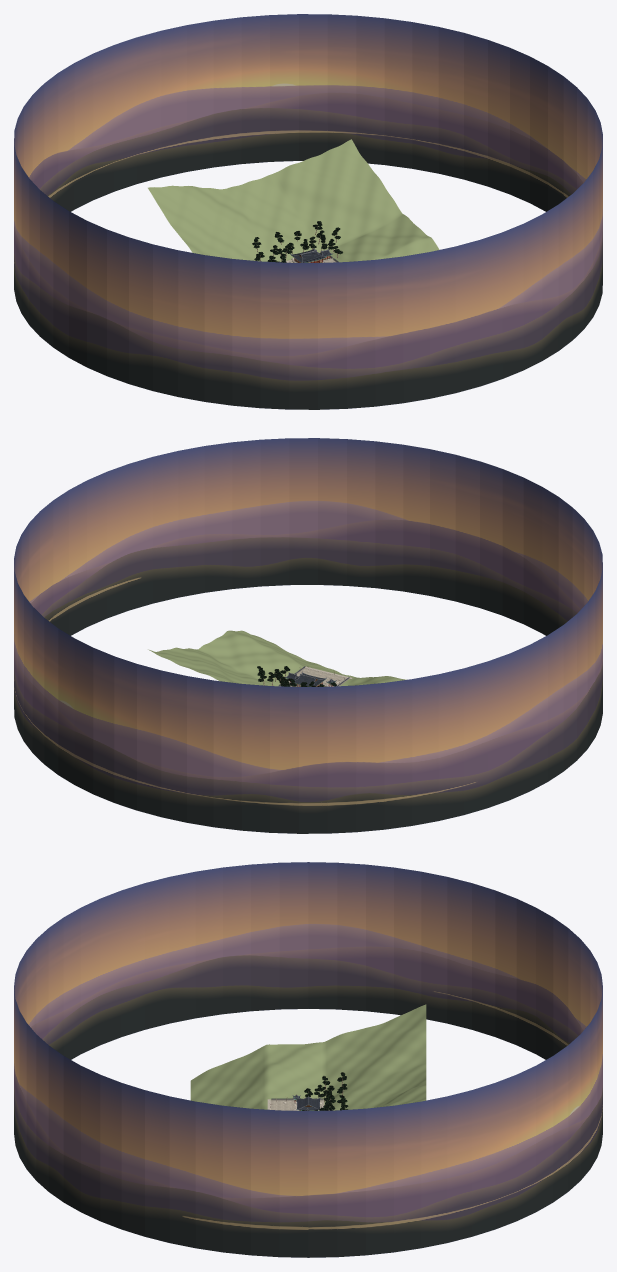
File: mountain_temple.fbx
3 views of the same model, one above another, from view 1: azimuth 30°, elevation 25°; view 2: azimuth 150°, elevation 25°; view 3: azimuth 270°, elevation 25° (orthographic).
Visible parts, largest first — view 1: Sky_sky, Terrain_ground, Pines_pine; view 2: Sky_sky, Terrain_ground; view 3: Sky_sky, Terrain_ground, Pines_pine.
Part boxes in pixels (bbox=[...]): Sky_sky: bbox=[14, 14, 602, 409]; Terrain_ground: bbox=[148, 139, 439, 262]; Pines_pine: bbox=[252, 221, 342, 262]; Sky_sky: bbox=[14, 438, 602, 833]; Terrain_ground: bbox=[148, 630, 406, 686]; Sky_sky: bbox=[14, 862, 602, 1257]; Terrain_ground: bbox=[190, 1004, 426, 1110]; Pines_pine: bbox=[302, 1072, 348, 1110].
Size of the model in its own units: 60000 by 18503 by 60000.
Materials: 38 (18 with a texture image).
